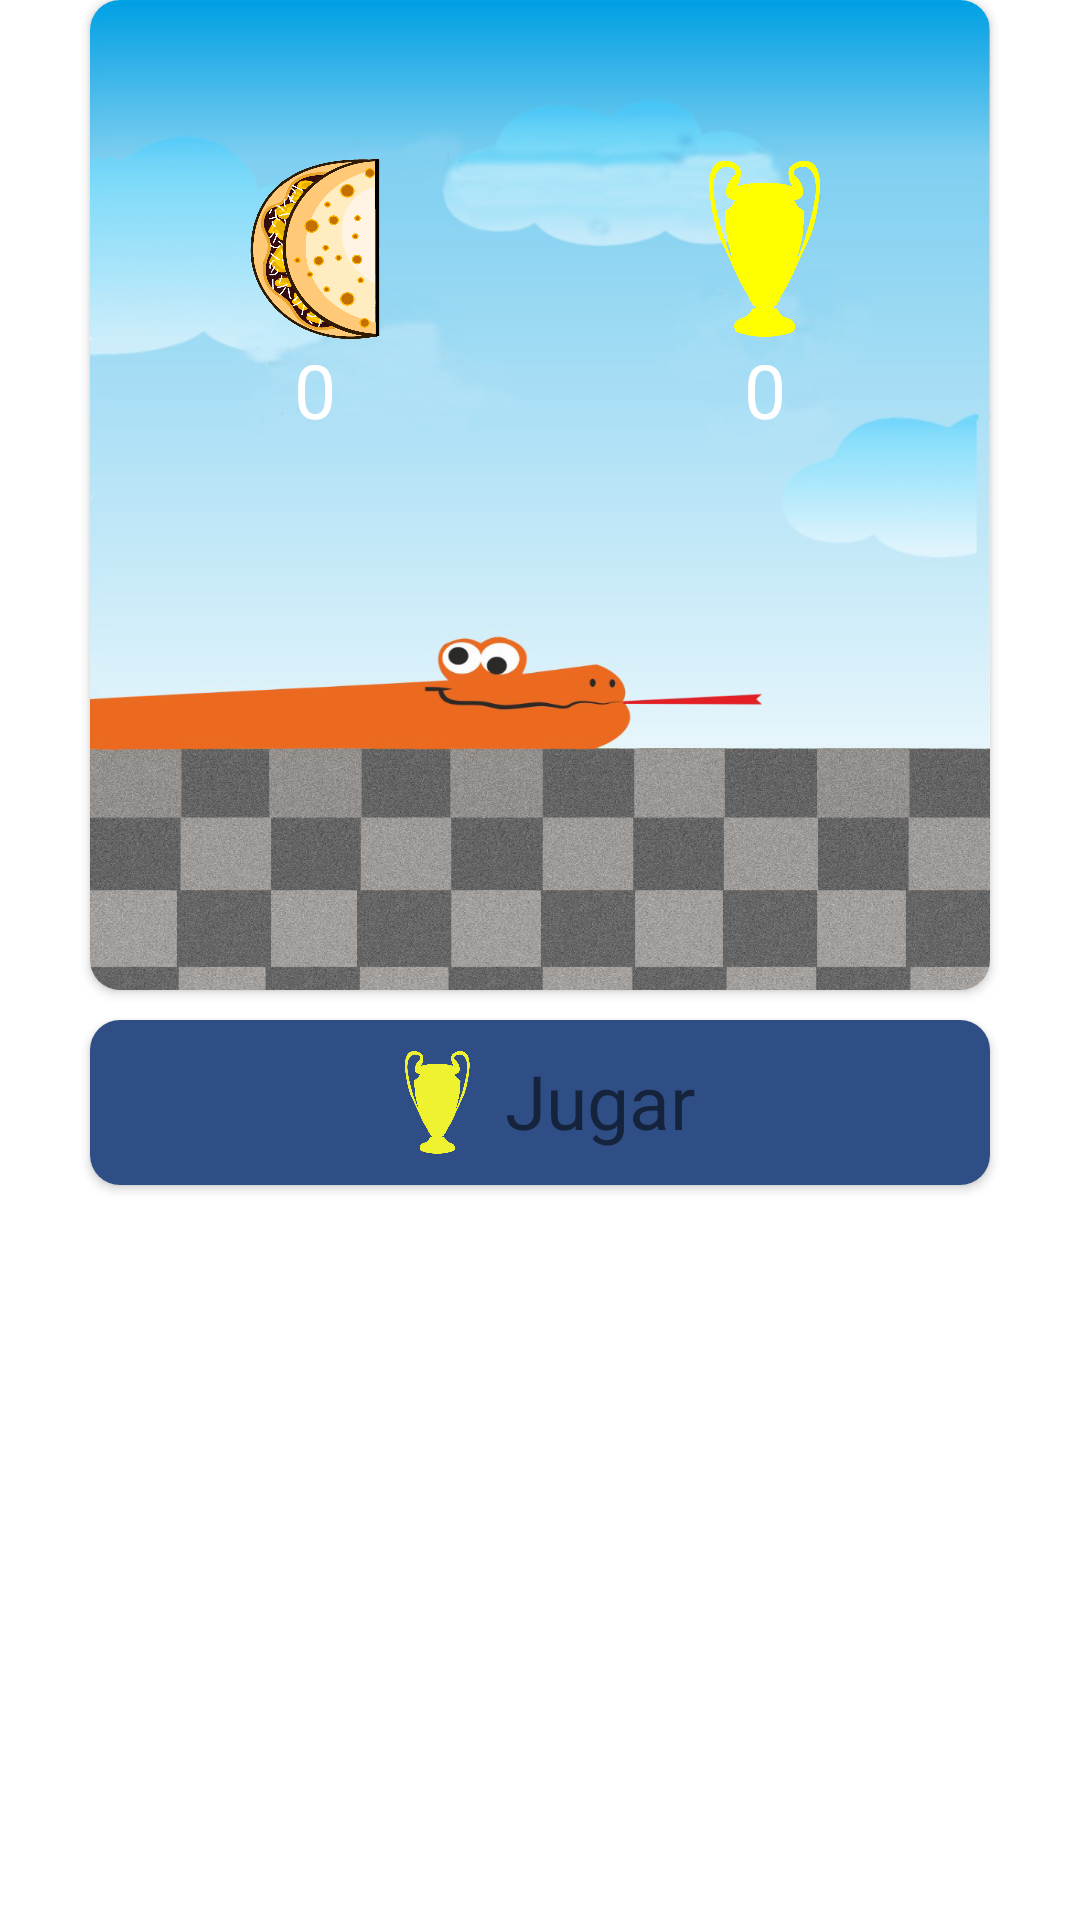

Named icons in this screenshot (1080 x 1920) and their centers, (x,y):
copa: (765,248), (437,1102)
